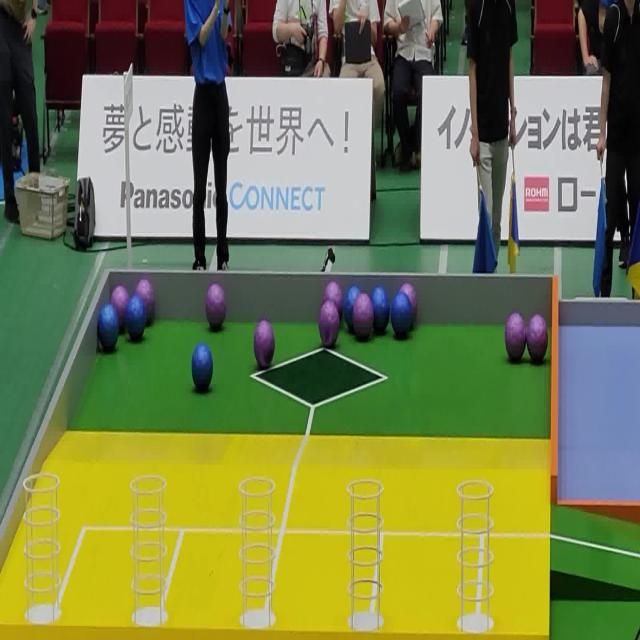blue_ball: (191, 344, 213, 394), (97, 304, 118, 354), (389, 296, 410, 344), (126, 301, 146, 343), (374, 286, 391, 335), (344, 285, 355, 333)
purple_ball: (504, 308, 526, 368), (318, 301, 341, 350), (528, 316, 550, 364), (206, 282, 227, 331), (254, 320, 275, 369), (355, 294, 373, 343), (134, 276, 156, 301), (117, 286, 128, 330), (325, 281, 343, 307), (408, 282, 419, 318)
